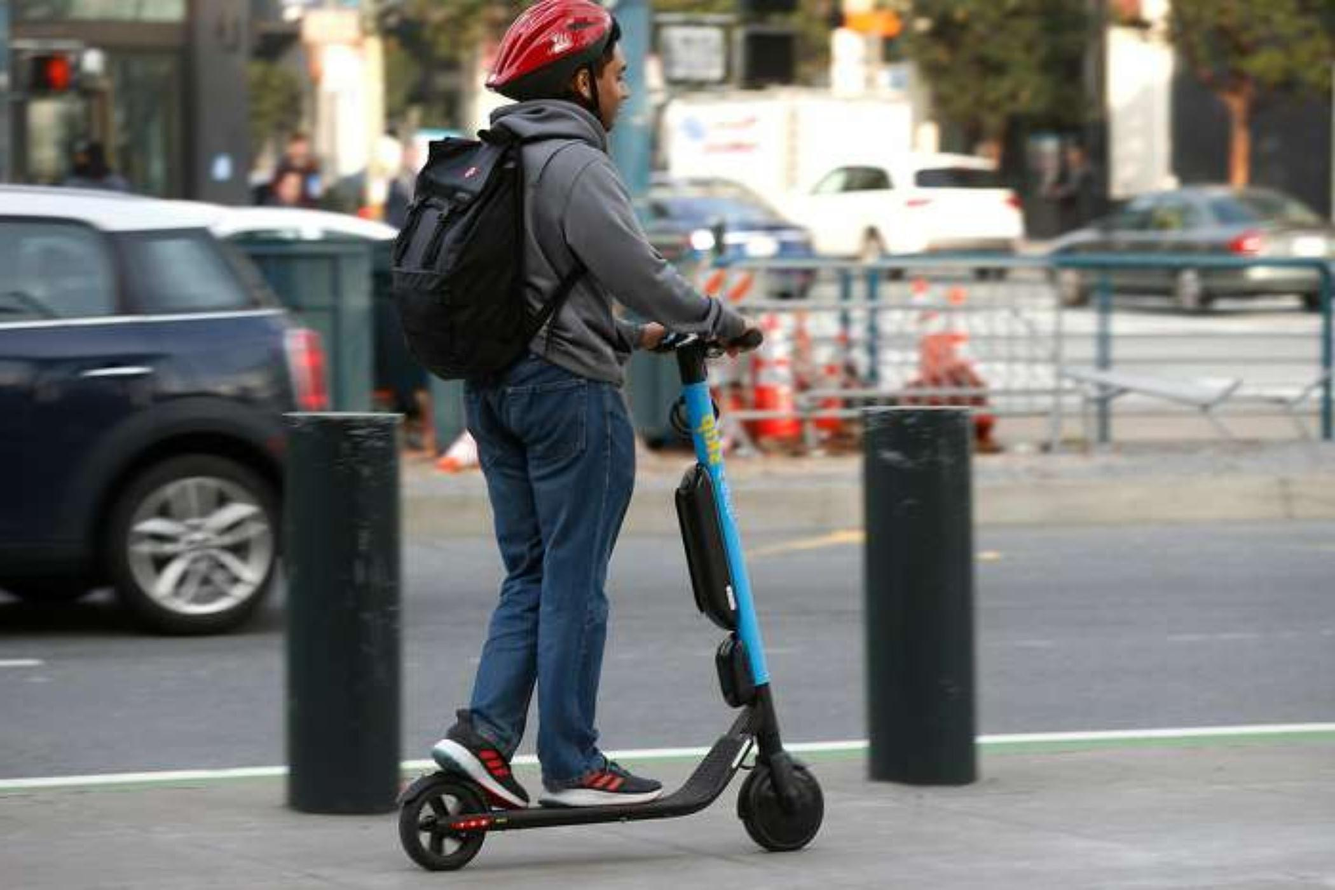helmet: (484, 2, 628, 137)
human: (450, 0, 764, 792)
kickboard: (391, 755, 824, 870)
